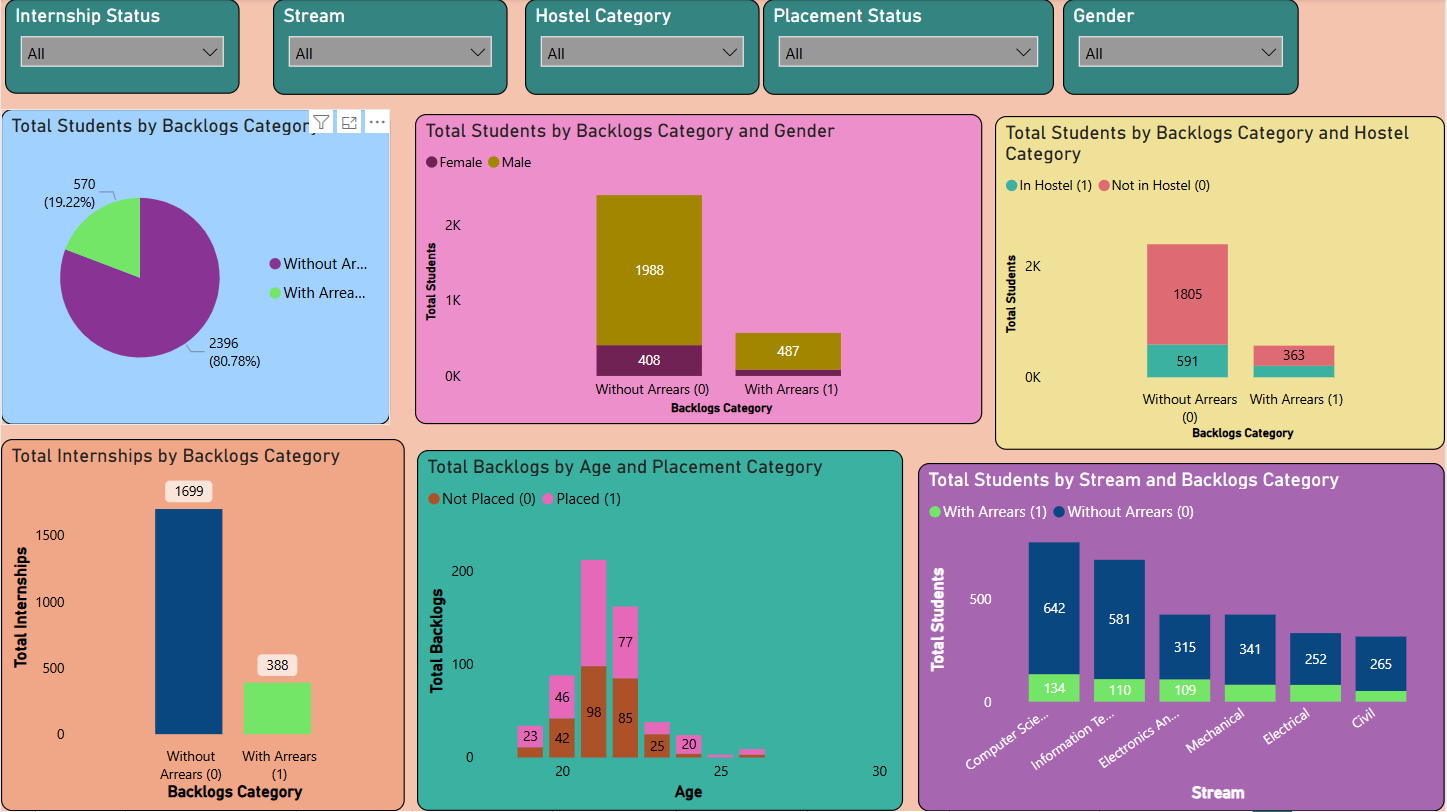

The dashboard page shown, as its layout file describes it:
{"tool":"powerbi","page":{"name":"Backlog Analysis","canvas":[1280,720],"ordinal":5},"visuals":[{"type":"columnChart","fields":{"Category":["collegePlace.Backlogs Category"],"Y":["CountNonNull(collegePlace.Gender)"],"Series":["collegePlace.Gender"]},"box":[366.7,102.1,502.9,275.3],"z":0},{"type":"pieChart","fields":{"Category":["collegePlace.Backlogs Category"],"Y":["CountNonNull(collegePlace. placement1)"]},"box":[0,97.3,345.3,280.1],"z":1000},{"type":"lineStackedColumnComboChart","fields":{"Category":["collegePlace.Backlogs Category"],"Y":["Sum(collegePlace.Internships)"]},"box":[0,390,357.9,329.7],"z":2000},{"type":"columnChart","fields":{"Y":["CountNonNull(collegePlace.Age)"],"Category":["collegePlace.Stream"],"Series":["collegePlace.Backlogs Category"]},"box":[813.1,411,466.6,309],"z":3000},{"type":"columnChart","fields":{"Y":["CountNonNull(collegePlace.Age)"],"Category":["collegePlace.Backlogs Category"],"Series":["collegePlace.Hostel Category"]},"box":[881.2,104.1,398.8,295.7],"z":4000},{"type":"columnChart","fields":{"Category":["collegePlace.Age"],"Series":["collegePlace. placement1"],"Y":["Sum(collegePlace.HistoryOfBacklogs)"]},"box":[368.6,399.8,430.9,320],"z":5000},{"type":"slicer","title":"Stream","fields":{"Values":["collegePlace.Stream"]},"box":[241.2,0,208.1,84.6],"z":6000},{"type":"slicer","title":"Hostel Category","fields":{"Values":["collegePlace.Hostel Category"]},"box":[464.9,0,208.1,84.6],"z":7000},{"type":"slicer","title":"Internship Status","fields":{"Values":["collegePlace.Internship Status"]},"box":[3.5,0,208.4,84.2],"z":8000},{"type":"slicer","title":"Gender","fields":{"Values":["collegePlace.Gender"]},"box":[941.5,0,209.1,84.6],"z":9000},{"type":"slicer","title":"Placement Status","fields":{"Values":["collegePlace.placement status"]},"box":[676,0,257.8,84.6],"z":10000}]}

Visuals, with their boxes in screenshot pixels (x1, y1, x2, y2), scaled from the page's 1280x720 canvas onto the 1447x812 screenshot:
columnChart - collegePlace.Backlogs Category x CountNonNull(collegePlace.Gender): (left=415, top=115, right=983, bottom=426)
pieChart - collegePlace.Backlogs Category x CountNonNull(collegePlace. placement1): (left=0, top=110, right=390, bottom=426)
lineStackedColumnComboChart - collegePlace.Backlogs Category x Sum(collegePlace.Internships): (left=0, top=440, right=405, bottom=811)
columnChart - CountNonNull(collegePlace.Age) x collegePlace.Stream: (left=919, top=464, right=1446, bottom=811)
columnChart - CountNonNull(collegePlace.Age) x collegePlace.Backlogs Category: (left=996, top=117, right=1446, bottom=451)
columnChart - collegePlace.Age x collegePlace. placement1: (left=417, top=451, right=904, bottom=811)
"Stream" slicer: (left=273, top=0, right=508, bottom=95)
"Hostel Category" slicer: (left=526, top=0, right=761, bottom=95)
"Internship Status" slicer: (left=4, top=0, right=240, bottom=95)
"Gender" slicer: (left=1064, top=0, right=1301, bottom=95)
"Placement Status" slicer: (left=764, top=0, right=1056, bottom=95)
